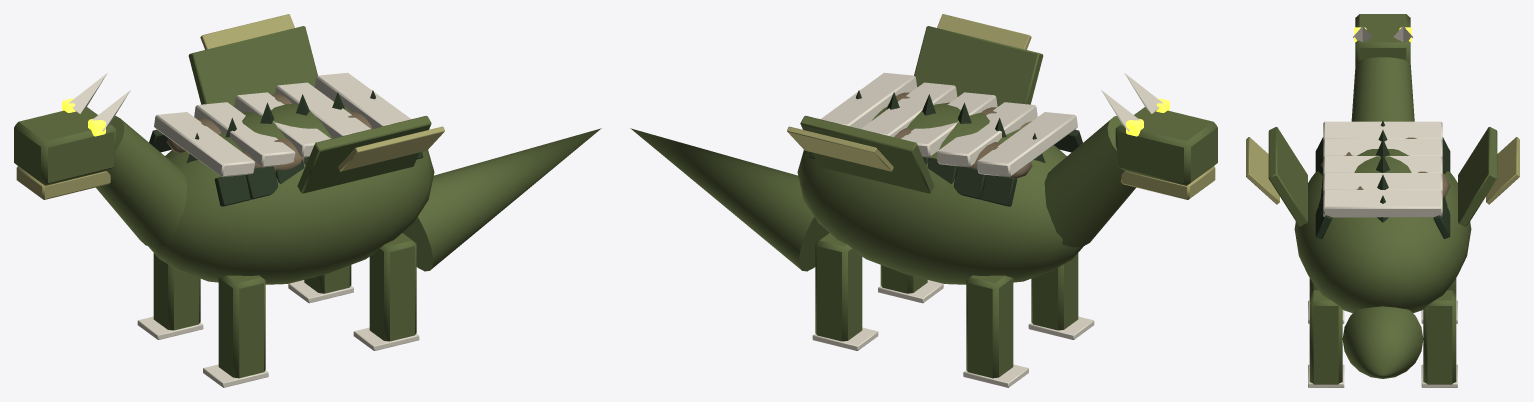
Rendered from drake.glb.
The picture shows the model from 3 angles, left to right: view 1: azimuth 30°, elevation 25°; view 2: azimuth 150°, elevation 25°; view 3: azimuth 270°, elevation 25°; orthographic projection. The views are drawn at different scales.
Visible parts, largest first — view 1: body, armorMelee, tail, wingR, head, neck, wingL, legFL, legBL, legFR, armorRanged, legBR (+2 smaller); view 2: body, armorMelee, tail, wingL, head, neck, wingR, legFR, legBR, legFL, armorRanged, legBL (+2 smaller); view 3: body, armorMelee, tail, neck, wingL, wingR, legBL, legBR, head, armorRanged.
Boxes of the visible parts, <box> form: body: <box>148,90,434,284</box>; armorMelee: <box>154,72,410,177</box>; tail: <box>402,128,601,271</box>; wingR: <box>188,14,317,106</box>; head: <box>14,73,130,185</box>; neck: <box>96,115,187,247</box>; wingL: <box>297,116,444,193</box>; legFL: <box>203,275,268,387</box>; legBL: <box>353,233,419,350</box>; legFR: <box>137,253,203,339</box>; armorRanged: <box>149,129,423,206</box>; legBR: <box>288,265,353,303</box>; body: <box>797,90,1083,284</box>; armorMelee: <box>821,72,1077,177</box>; tail: <box>630,128,829,271</box>; wingL: <box>914,14,1043,106</box>; head: <box>1101,73,1217,185</box>; neck: <box>1044,116,1135,247</box>; wingR: <box>787,116,934,193</box>; legFR: <box>963,275,1028,387</box>; legBR: <box>812,233,878,350</box>; legFL: <box>1028,253,1094,339</box>; armorRanged: <box>808,129,1082,206</box>; legBL: <box>878,265,943,303</box>; body: <box>1294,121,1471,313</box>; armorMelee: <box>1323,121,1442,217</box>; tail: <box>1342,306,1423,378</box>; neck: <box>1351,57,1414,121</box>; wingL: <box>1246,127,1307,226</box>; wingR: <box>1458,127,1519,226</box>; legBL: <box>1308,290,1344,387</box>; legBR: <box>1421,290,1457,387</box>; head: <box>1353,14,1412,64</box>; armorRanged: <box>1315,137,1450,238</box>.
Bounding box in the file's own units: 4.57 × 2.21 × 2.17.
